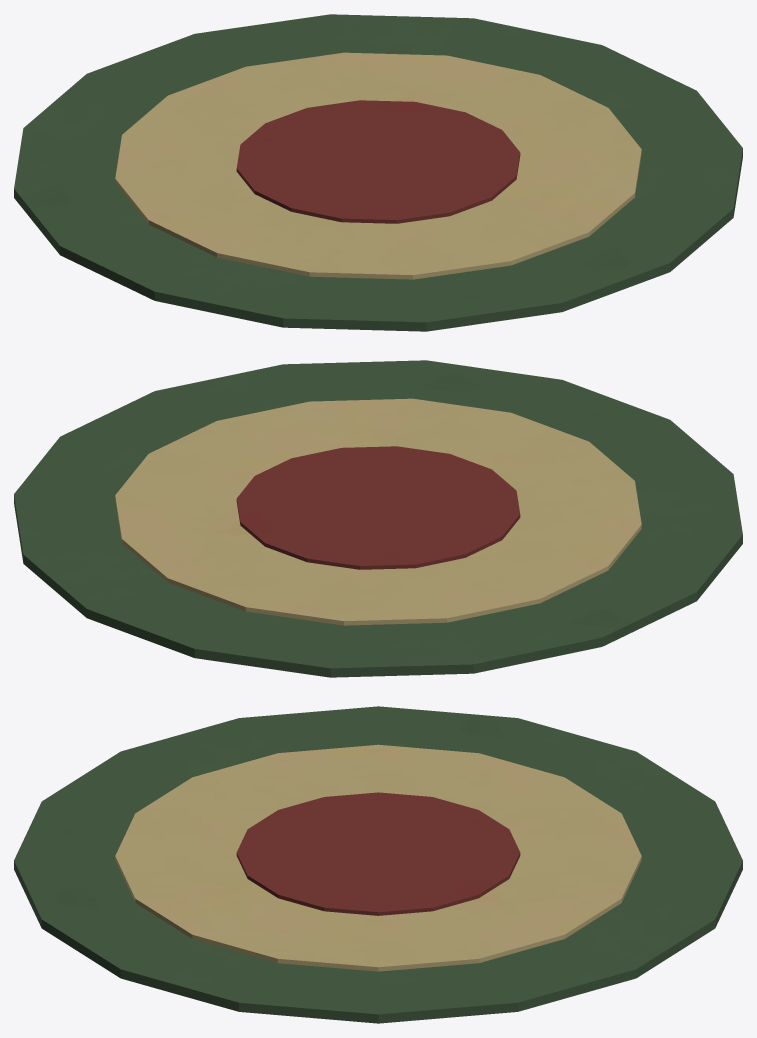
Rendered from rug_round_01.glb.
3 renders of one model, top to bottom at view 1: azimuth 30°, elevation 25°; view 2: azimuth 150°, elevation 25°; view 3: azimuth 270°, elevation 25°, orthographic.
Parts seen in each view (by area): view 1: rug_round_01; view 2: rug_round_01; view 3: rug_round_01.
Part boxes in pixels (x1,y1,x2,y2): rug_round_01: [14, 14, 742, 331]; rug_round_01: [14, 360, 742, 677]; rug_round_01: [14, 706, 742, 1023].
Bounding box in the file's own units: 1.8 × 0.047 × 1.8.
Materials: 3 (3 with a texture image).
